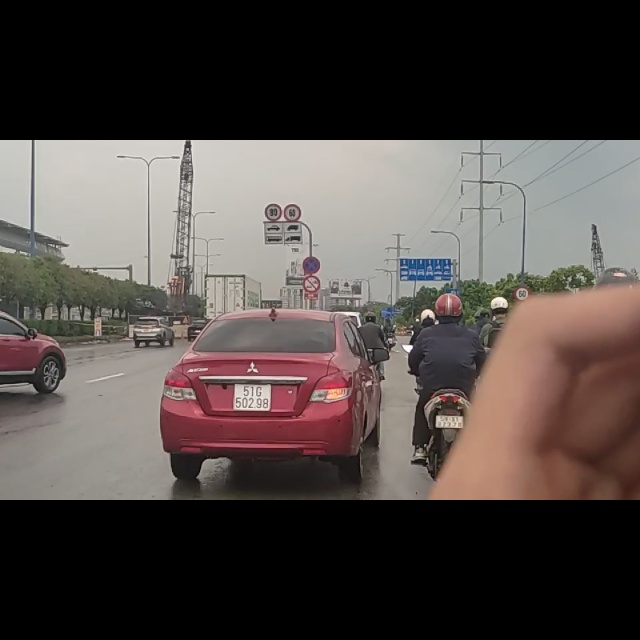bien_chi_dan: (302, 207, 321, 238), (261, 115, 282, 143), (283, 113, 301, 145)
